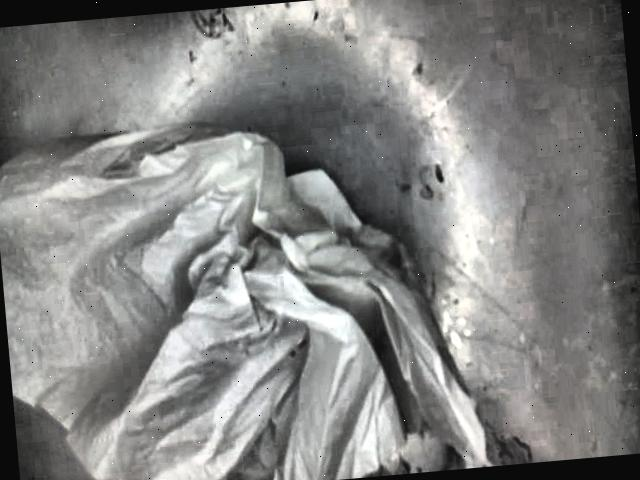Paper: (0, 124, 491, 480)
